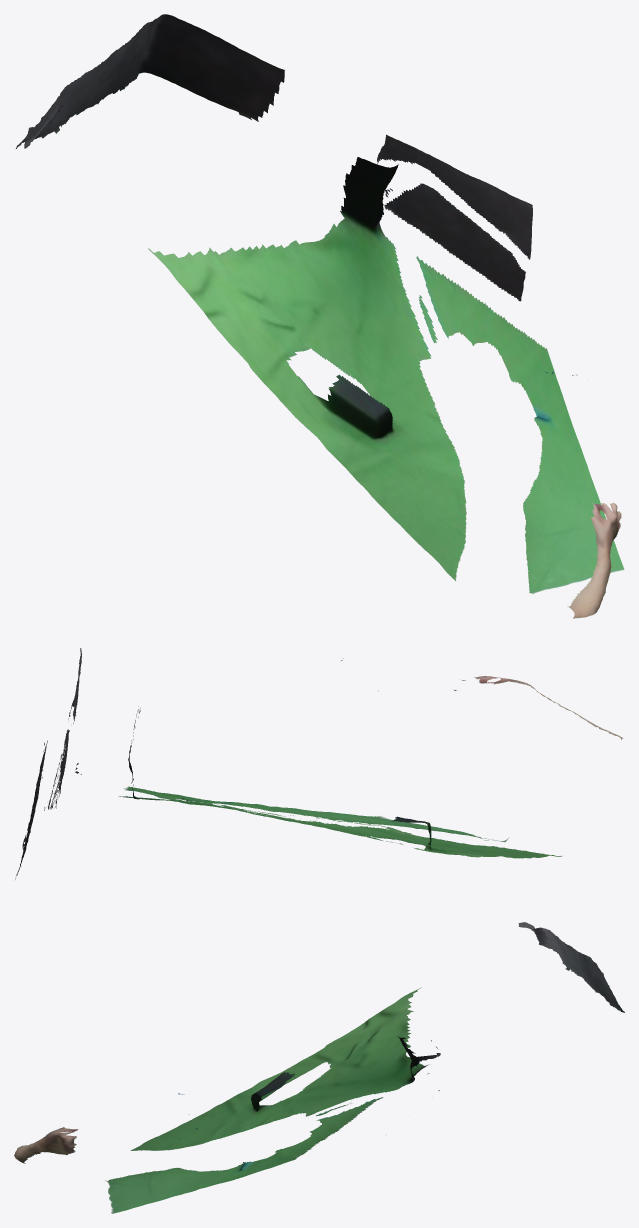
3 renders of one model, top to bottom at view 1: azimuth 30°, elevation 25°; view 2: azimuth 150°, elevation 25°; view 3: azimuth 270°, elevation 25°, orthographic. The views are drawn at different scales.
Parts seen in each view (by area): view 1: world; view 2: world; view 3: world.
Boxes of the visible parts, x1,y1,x2,y2 form: world: (16,14,624,618); world: (15,648,623,879); world: (14,922,624,1213).
Size of the model in its own units: 0.9501 by 0.7968 by 2.04.
Materials: 1 (1 with a texture image).
